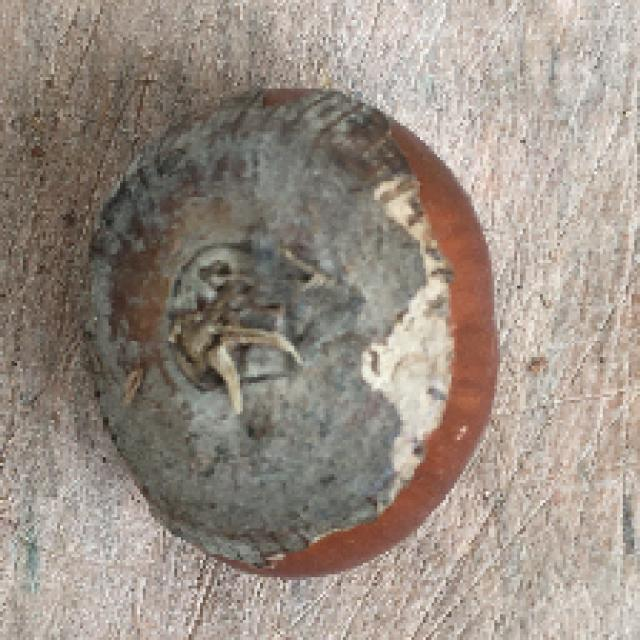damagedHazelnut: (64, 80, 505, 578)
